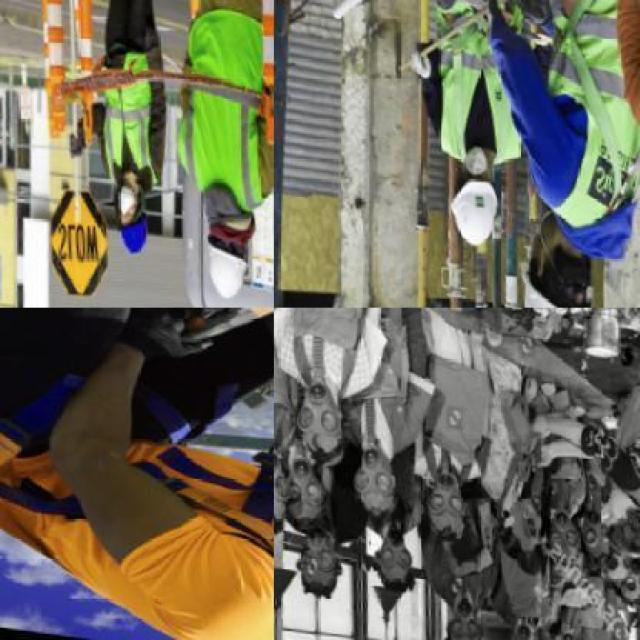helmet: (438, 179, 502, 258), (204, 240, 254, 302), (113, 218, 155, 264)
jacket: (525, 10, 633, 224), (413, 14, 518, 166), (89, 52, 166, 188)
